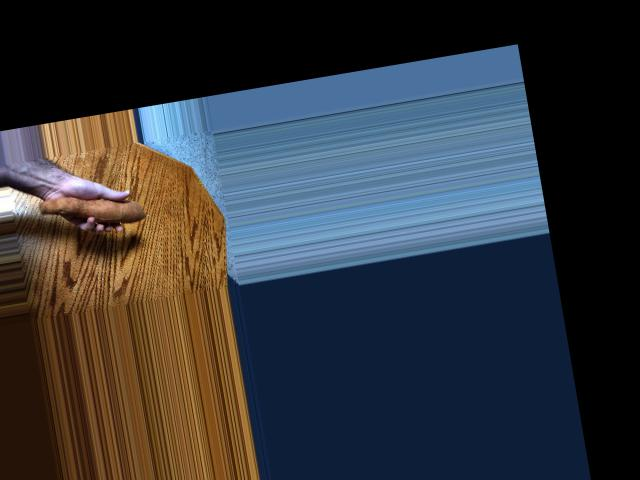sweet_potato: (40, 182, 148, 237)
